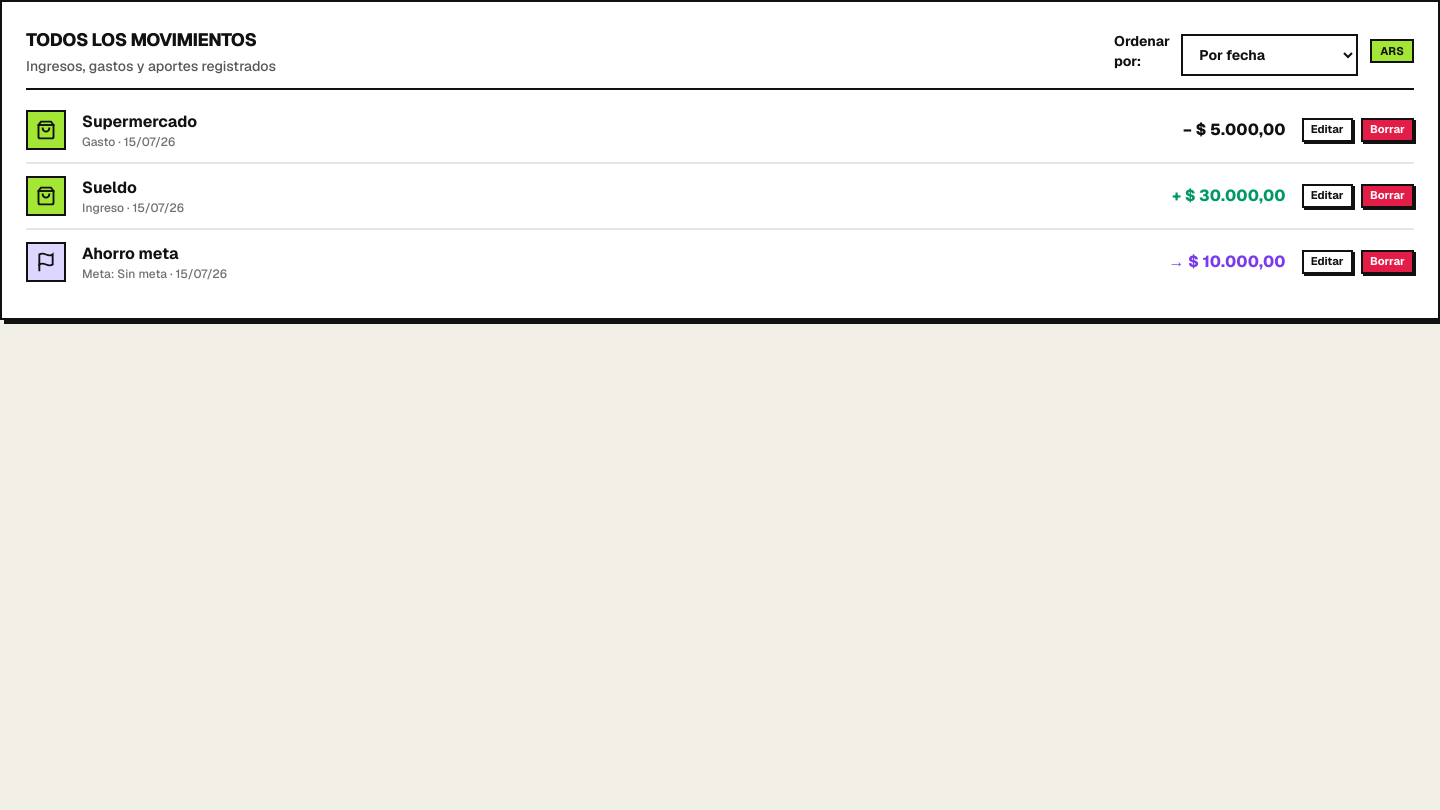
Test: MovementsList › flujo de borrar: "Sí, eliminar" ejecuta DELETE y remueve el item
Expected: the text "Supermercado" is shown, [82, 111, 197, 132]
What coordinates should you click on to do the following:
click the button "Borrar" in the row of "Supermercado"
I would click on:
 (1387, 130)
Its box is [1361, 118, 1414, 142].
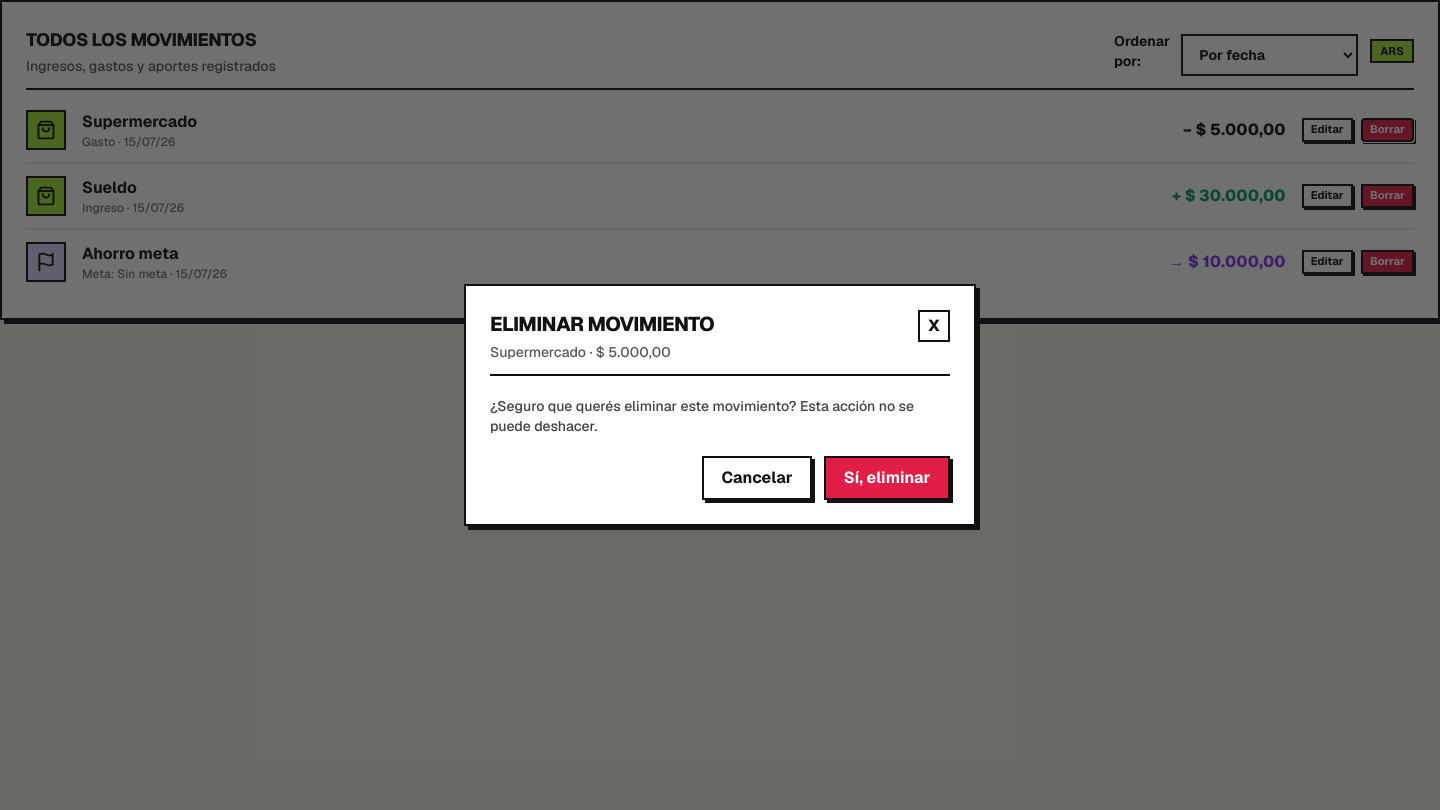
Now the dialog is shown
What coordinates should you click on to do the following:
click the button "Sí, eliminar"
I would click on:
 (887, 478)
Its box is [824, 456, 950, 500].
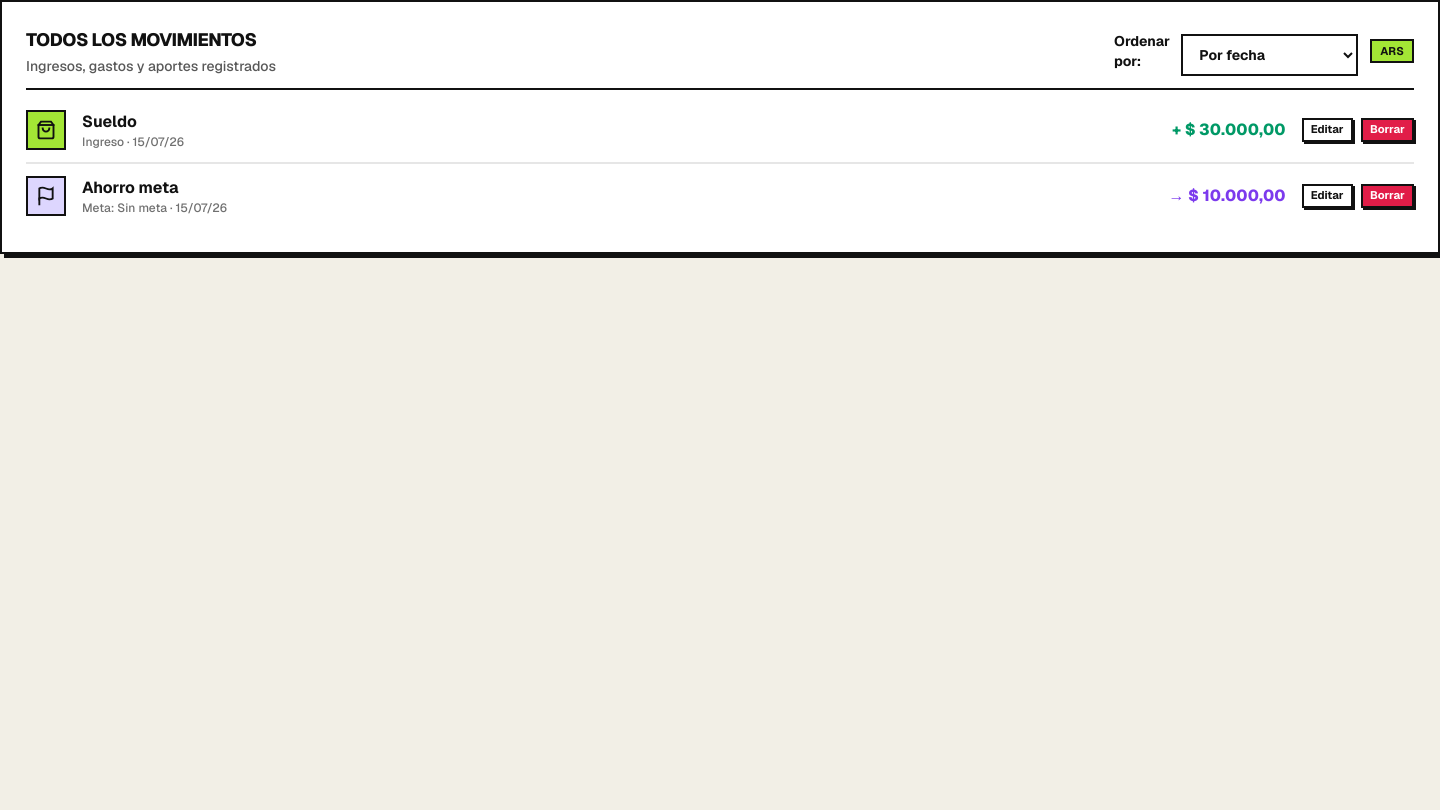
Now the text "Supermercado" is gone
